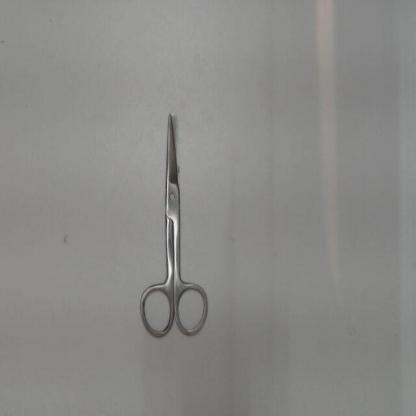Dressing Scissors: (131, 101, 216, 350)
